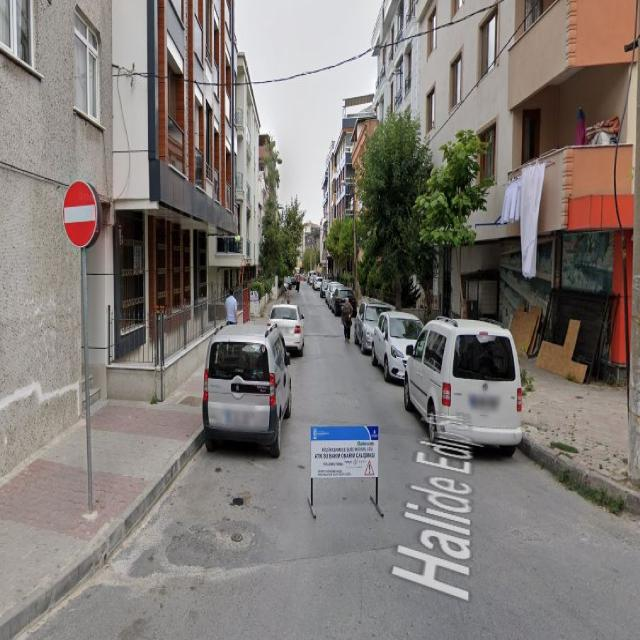girisyok: (62, 180, 96, 248)
